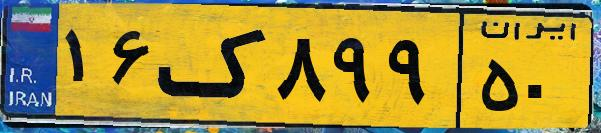0: (525, 38, 570, 115)
1: (57, 26, 110, 100)
5: (475, 38, 525, 113)
6: (110, 28, 158, 98)
8: (270, 28, 330, 110)
9: (385, 28, 445, 110), (330, 28, 385, 110)
ک: (158, 12, 270, 120)
